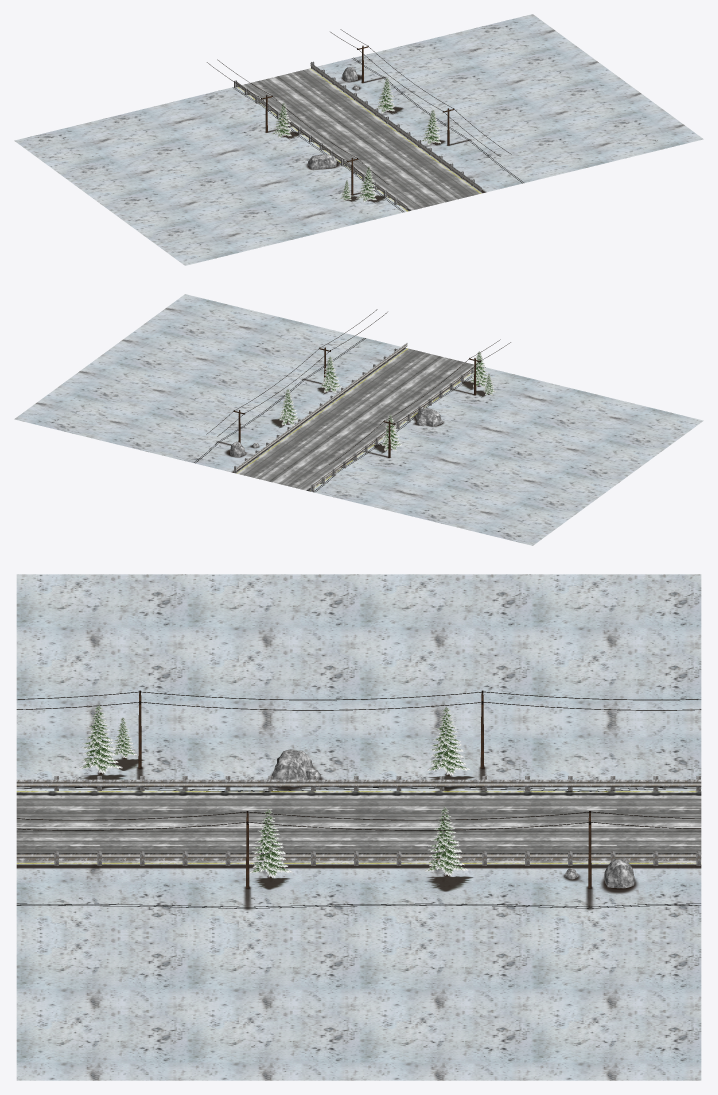
The picture shows the model from 3 angles, top to bottom: view 1: azimuth 30°, elevation 25°; view 2: azimuth 150°, elevation 25°; view 3: azimuth 270°, elevation 25°; orthographic projection. The views are drawn at different scales.
Visible parts, largest first — view 1: scene2, road009, Box004, Box039, rock005; view 2: scene2, road009, Box004, Box039, rock005; view 3: scene2, road009, Box004, Box039, rock005.
Part boxes in pixels (left/top/right/bottom): scene2: left=14, top=14, right=703, bottom=265; road009: left=234, top=61, right=481, bottom=211; Box004: left=207, top=29, right=523, bottom=212; Box039: left=271, top=78, right=440, bottom=202; rock005: left=307, top=67, right=359, bottom=169; scene2: left=14, top=294, right=703, bottom=545; road009: left=234, top=343, right=480, bottom=491; Box004: left=194, top=309, right=510, bottom=492; Box039: left=277, top=351, right=495, bottom=450; rock005: left=230, top=408, right=442, bottom=457; scene2: left=16, top=574, right=701, bottom=1080; road009: left=16, top=776, right=701, bottom=865; Box004: left=16, top=690, right=701, bottom=908; Box039: left=79, top=704, right=470, bottom=877; rock005: left=272, top=749, right=635, bottom=888.
Size of the model in its own units: 140 by 10 by 80.
